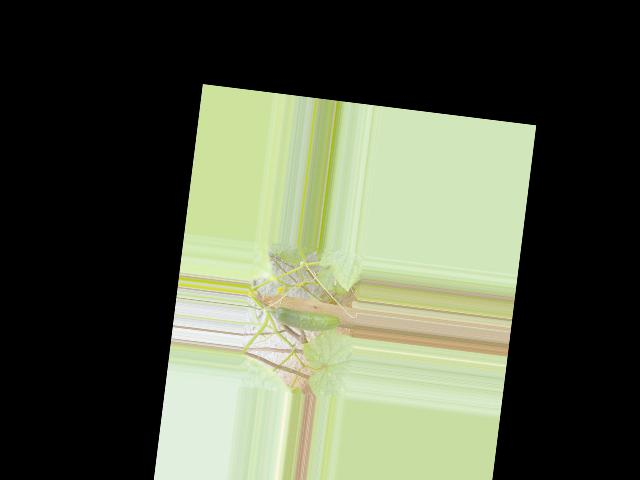cucumber: (272, 305, 341, 334)
